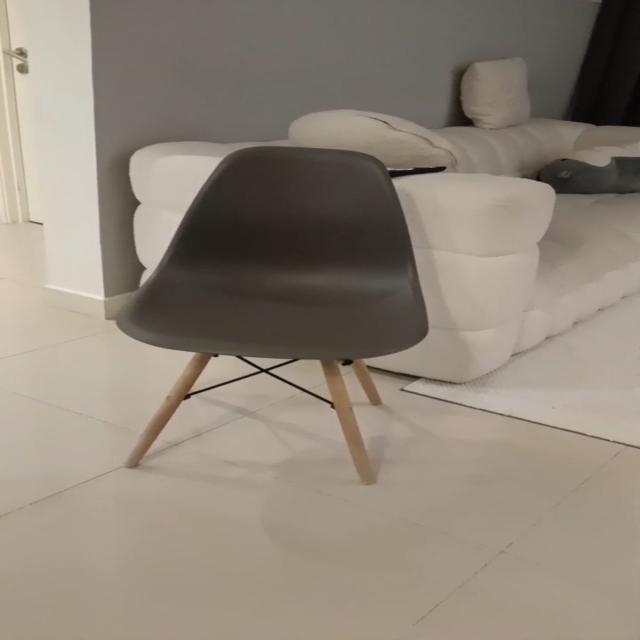sandalye: (116, 146, 428, 484)
